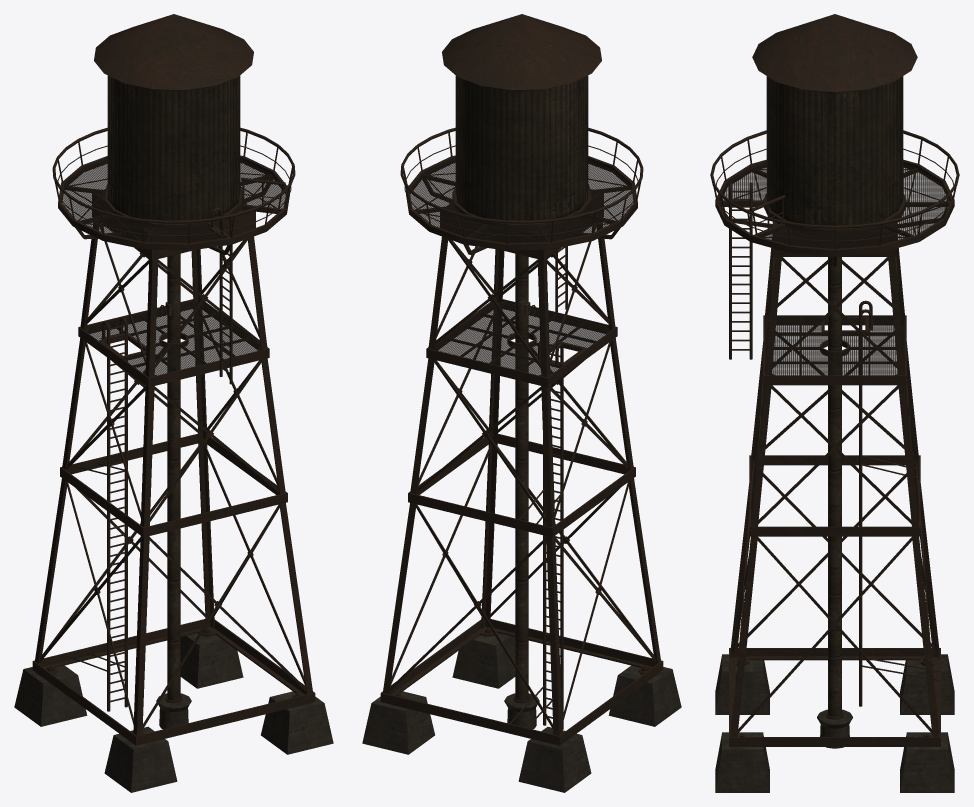
Rendered from water_tower_hm_1.glb.
3 views of the same model, side by side, from view 1: azimuth 30°, elevation 25°; view 2: azimuth 150°, elevation 25°; view 3: azimuth 270°, elevation 25° (orthographic). The views are drawn at different scales.
Visible parts, largest first — view 1: water_tower_hm_1; view 2: water_tower_hm_1; view 3: water_tower_hm_1.
Part boxes in pixels (x1,y1,x2,y2): water_tower_hm_1: [14, 14, 333, 792]; water_tower_hm_1: [362, 14, 681, 792]; water_tower_hm_1: [710, 14, 959, 792].
Bounding box in the file's own units: 7.29 × 23.5 × 7.29.
5 materials, 5 textured.
